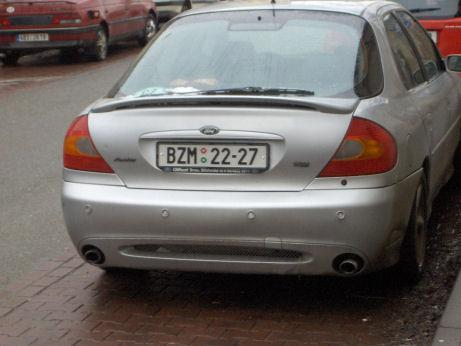placa de veiculo: (151, 136, 281, 183), (14, 31, 57, 44)
